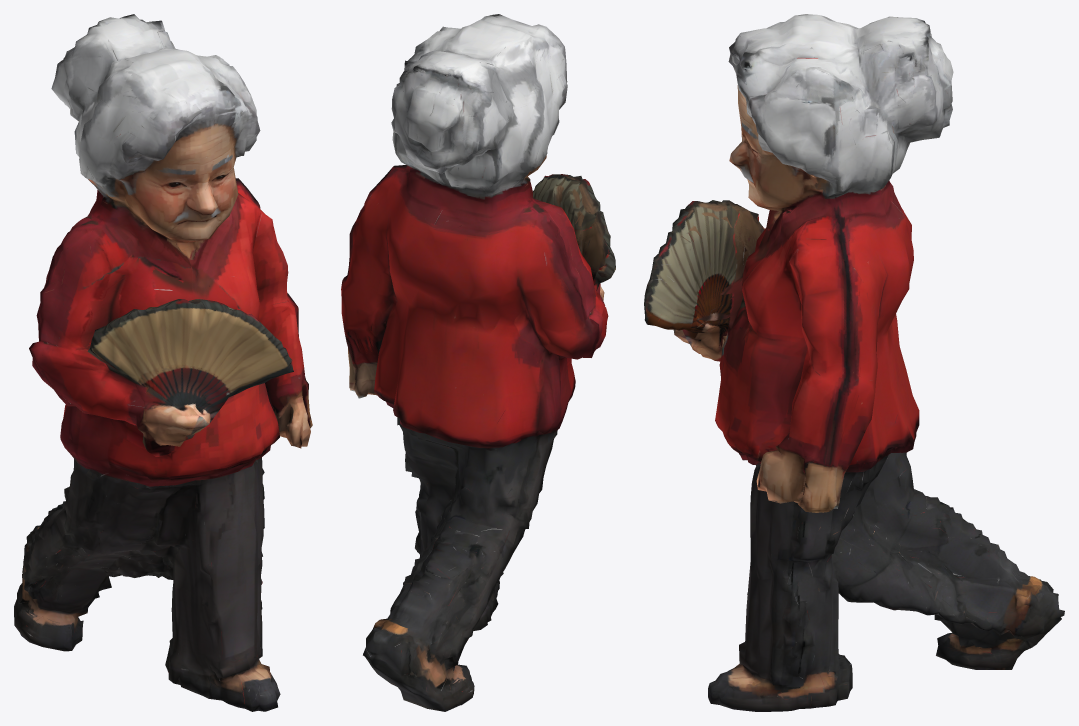
File: dancer.glb
3 renders of one model, left to right at view 1: azimuth 30°, elevation 25°; view 2: azimuth 150°, elevation 25°; view 3: azimuth 270°, elevation 25°, orthographic. The views are drawn at different scales.
Bounding box in the file's own units: 0.8946 × 2.01 × 1.19.
1 material, 1 textured.
